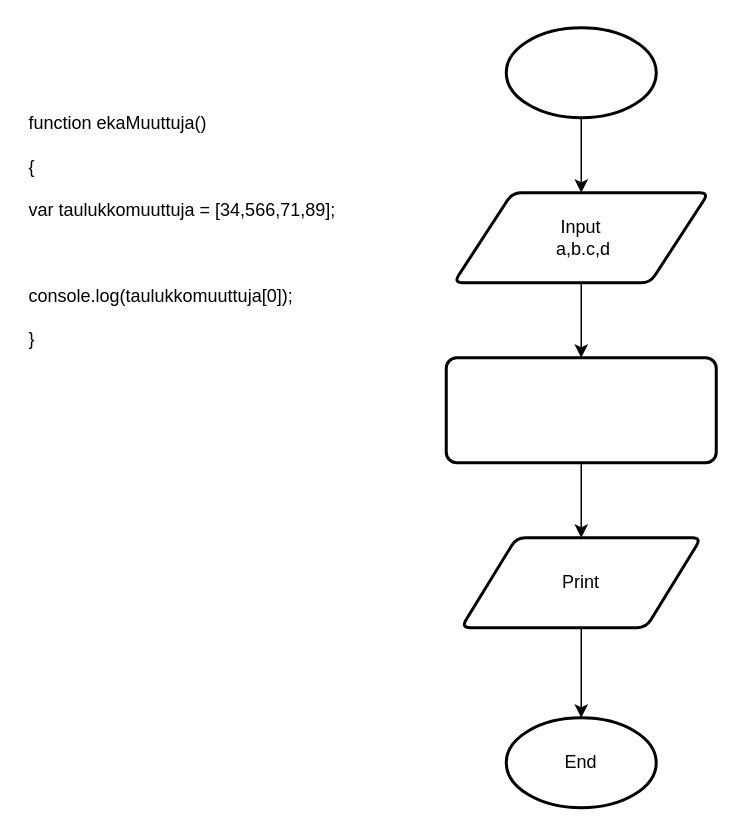
This 743x834 diagram has some shape labels left out. The box of each missing label's shape, as (x1, y1, x2, y2) in pixels:
Start: (504, 26, 657, 118)
taulukkomuuttuja [0]: (444, 356, 717, 464)
